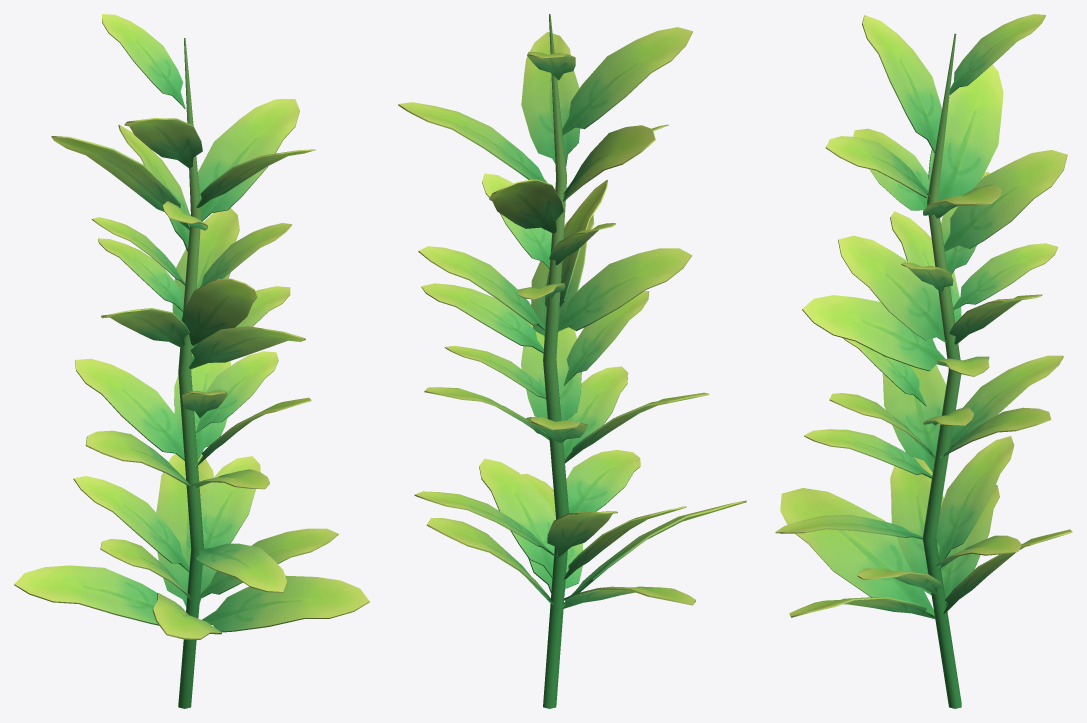
The model's file is PVB export plant 02.fbx.
3 renders of one model, left to right at view 1: azimuth 30°, elevation 25°; view 2: azimuth 150°, elevation 25°; view 3: azimuth 270°, elevation 25°, orthographic. The views are drawn at different scales.
Visible parts, largest first — view 1: pCylinder1, pCube25, pCube14, pCube27, pCube16, pCube31, pCube26, pCube30, pCube2, pCube9, pCube4, pCube32 (+19 smaller); view 2: pCylinder1, pCube8, pCube15, pCube13, pCube29, pCube32, pCube12, pCube14, pCube5, pCube3, pCube19, pCube17 (+18 smaller); view 3: pCube24, pCylinder1, pCube4, pCube2, pCube3, pCube1, pCube8, pCube31, pCube21, pCube28, pCube16, pCube11 (+20 smaller).
Part boxes in pixels (x1,y1,x2,y2): pCylinder1: [178, 38, 203, 708]; pCube25: [202, 575, 369, 632]; pCube14: [198, 99, 299, 221]; pCube27: [14, 565, 158, 625]; pCube16: [75, 358, 184, 460]; pCube31: [73, 476, 189, 571]; pCube26: [156, 454, 217, 606]; pCube30: [186, 456, 260, 549]; pCube2: [181, 278, 257, 345]; pCube9: [102, 14, 185, 108]; pCube4: [51, 136, 189, 229]; pCube32: [195, 543, 287, 592]; pCylinder1: [543, 14, 568, 708]; pCube8: [562, 27, 692, 136]; pCube15: [556, 248, 692, 331]; pCube13: [521, 32, 580, 166]; pCube29: [479, 458, 555, 577]; pCube32: [566, 450, 640, 513]; pCube12: [421, 283, 543, 353]; pCube14: [398, 102, 547, 182]; pCube5: [418, 246, 546, 331]; pCube3: [489, 179, 563, 233]; pCube19: [521, 321, 581, 420]; pCube17: [563, 366, 628, 459]; pCube24: [780, 488, 934, 616]; pCylinder1: [923, 33, 961, 708]; pCube4: [928, 64, 1003, 200]; pCube2: [838, 235, 946, 342]; pCube3: [944, 150, 1067, 251]; pCube1: [802, 295, 947, 371]; pCube8: [862, 15, 941, 153]; pCube31: [936, 436, 1014, 561]; pCube21: [882, 364, 946, 472]; pCube28: [890, 452, 950, 573]; pCube16: [950, 355, 1063, 448]; pCube11: [953, 243, 1057, 310].
Bounding box in the file's own units: 4.11 × 9.28 × 3.72.
Materials: 1 (1 with a texture image).
